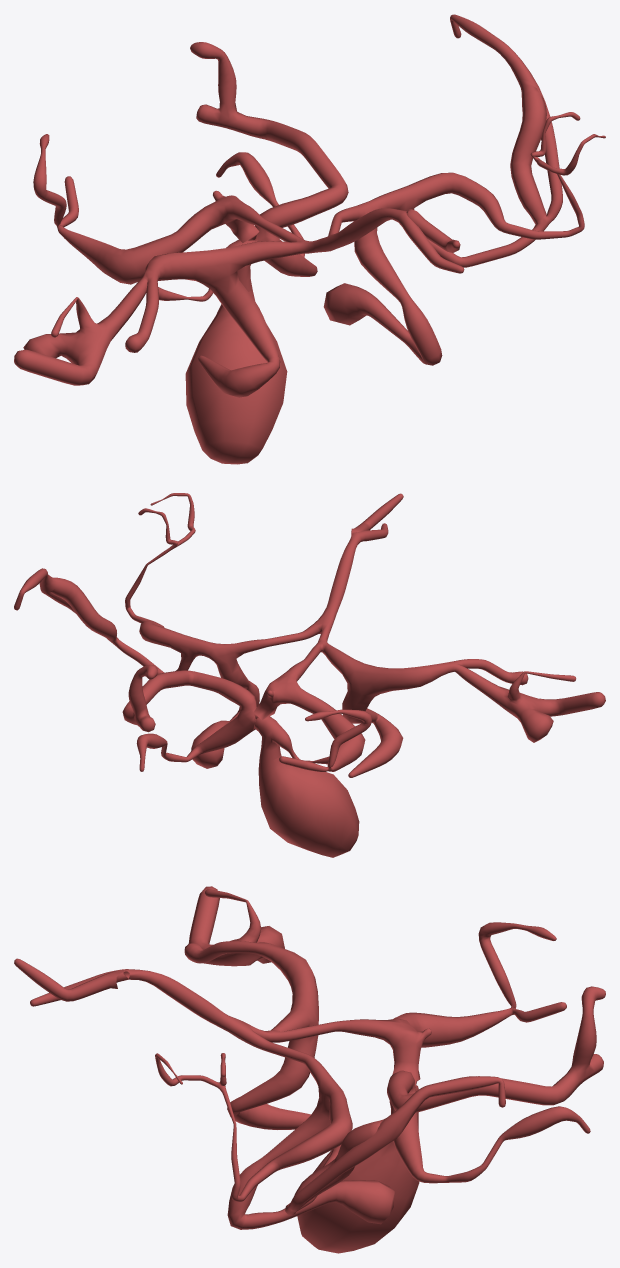
The model's file is separate aneurysm.fbx.
3 views of the same model, one above another, from view 1: azimuth 30°, elevation 25°; view 2: azimuth 150°, elevation 25°; view 3: azimuth 270°, elevation 25° (orthographic). The views are drawn at different scales.
Parts seen in each view (by area): view 1: N1_MCA_Aneurysm.002, N1_MCA_Aneurysm.003; view 2: N1_MCA_Aneurysm.002, N1_MCA_Aneurysm.003; view 3: N1_MCA_Aneurysm.002, N1_MCA_Aneurysm.003.
Boxes of the visible parts, box(x1,y1,x2,y2) form: N1_MCA_Aneurysm.002: box(14, 14, 605, 397); N1_MCA_Aneurysm.003: box(185, 290, 287, 464); N1_MCA_Aneurysm.002: box(14, 493, 605, 777); N1_MCA_Aneurysm.003: box(258, 753, 359, 857); N1_MCA_Aneurysm.002: box(14, 886, 605, 1229); N1_MCA_Aneurysm.003: box(297, 1129, 419, 1253).
Bounding box in the file's own units: 9.26 × 4.66 × 7.62.
